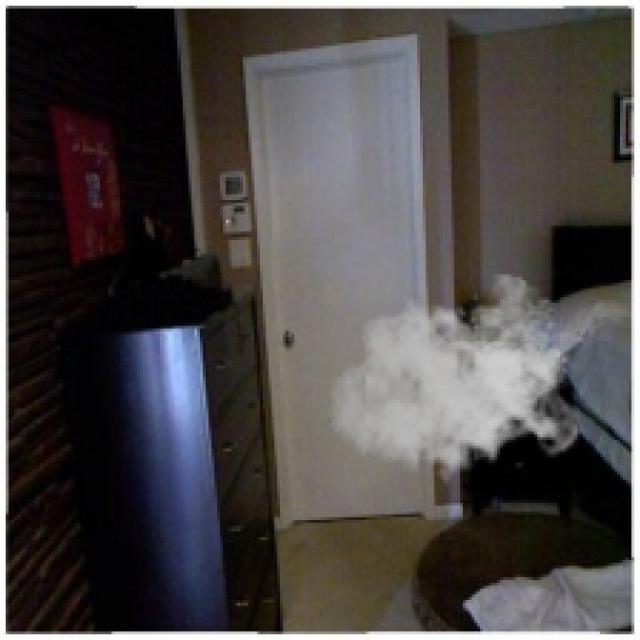Smoke: (328, 274, 586, 494)
